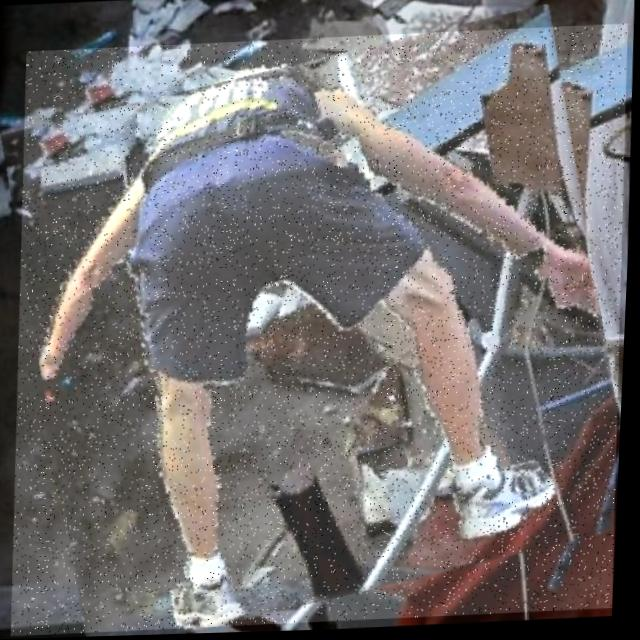Person in Rubble: (6, 27, 638, 636)
